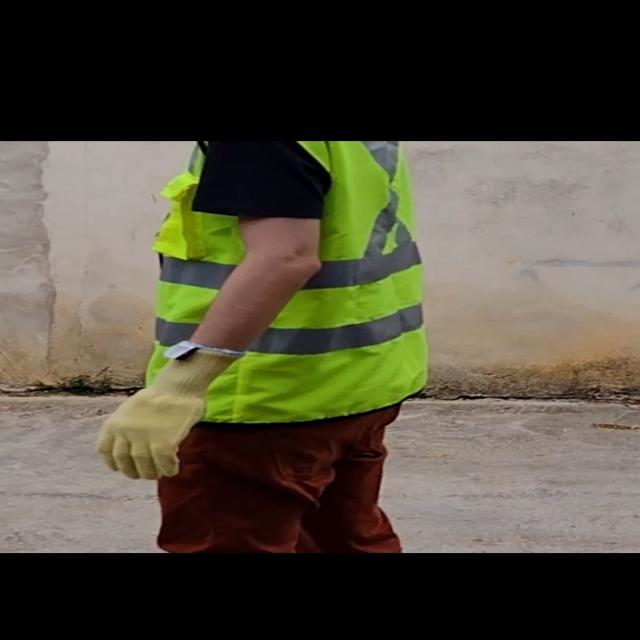glove: (85, 342, 256, 478)
pants: (150, 401, 413, 550)
vest: (136, 139, 437, 421)
